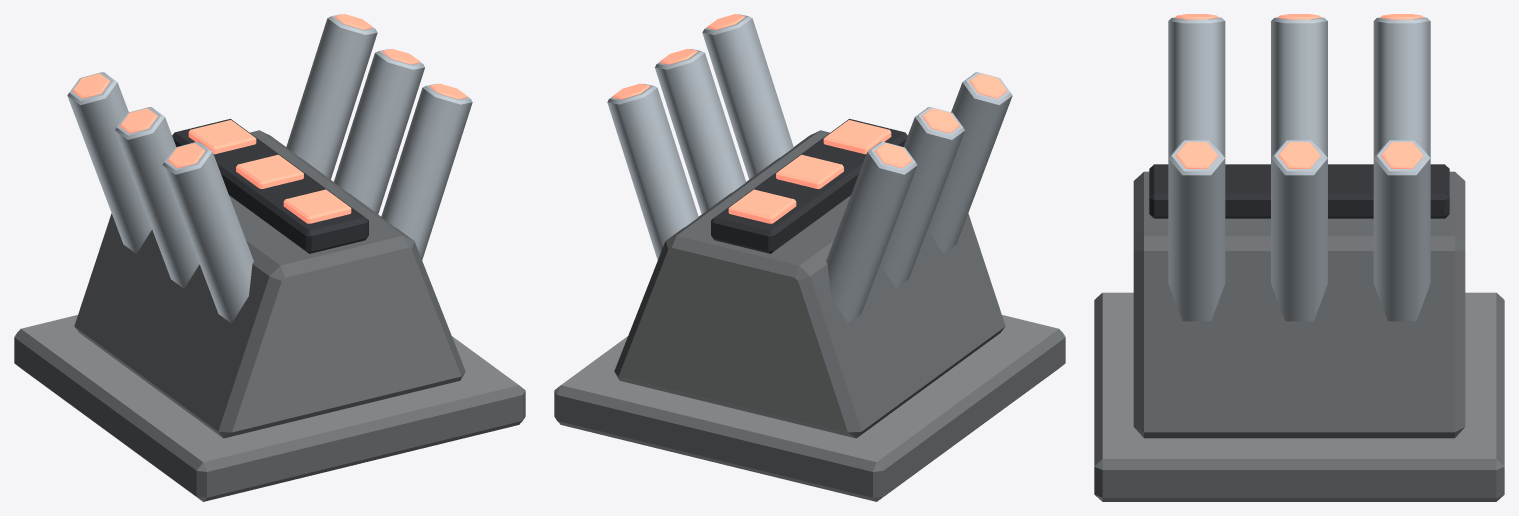
The model's file is R4X_Overdrive_LOD1.glb.
3 renders of one model, left to right at view 1: azimuth 30°, elevation 25°; view 2: azimuth 150°, elevation 25°; view 3: azimuth 270°, elevation 25°, orthographic. The views are drawn at different scales.
Parts seen in each view (by area): view 1: R4X_Overdrive_LOD1; view 2: R4X_Overdrive_LOD1; view 3: R4X_Overdrive_LOD1.
Boxes of the visible parts, bbox=[...] form: R4X_Overdrive_LOD1: bbox=[14, 14, 525, 501]; R4X_Overdrive_LOD1: bbox=[554, 14, 1065, 501]; R4X_Overdrive_LOD1: bbox=[1094, 14, 1504, 501].
Bounding box in the file's own units: 0.52 × 0.474 × 0.52.
